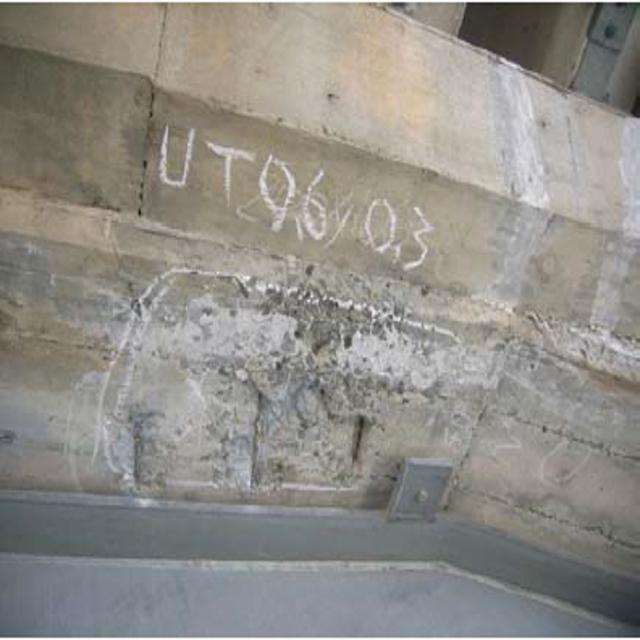spalling: (127, 316, 424, 511)
